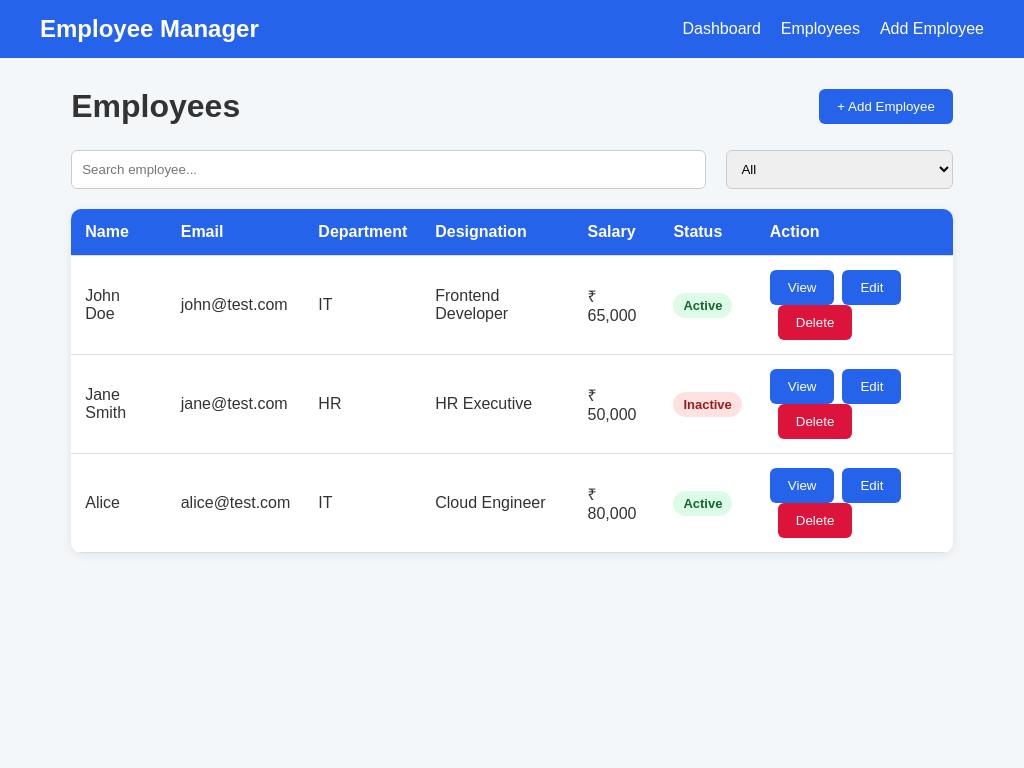
Employees page › searches employees by email
Expected: the text "John Doe" is shown, [71,256,167,354]
Type "alice@test.com" into the field with placeholder "Search employee..." at (389, 170), box [71,150,706,189]
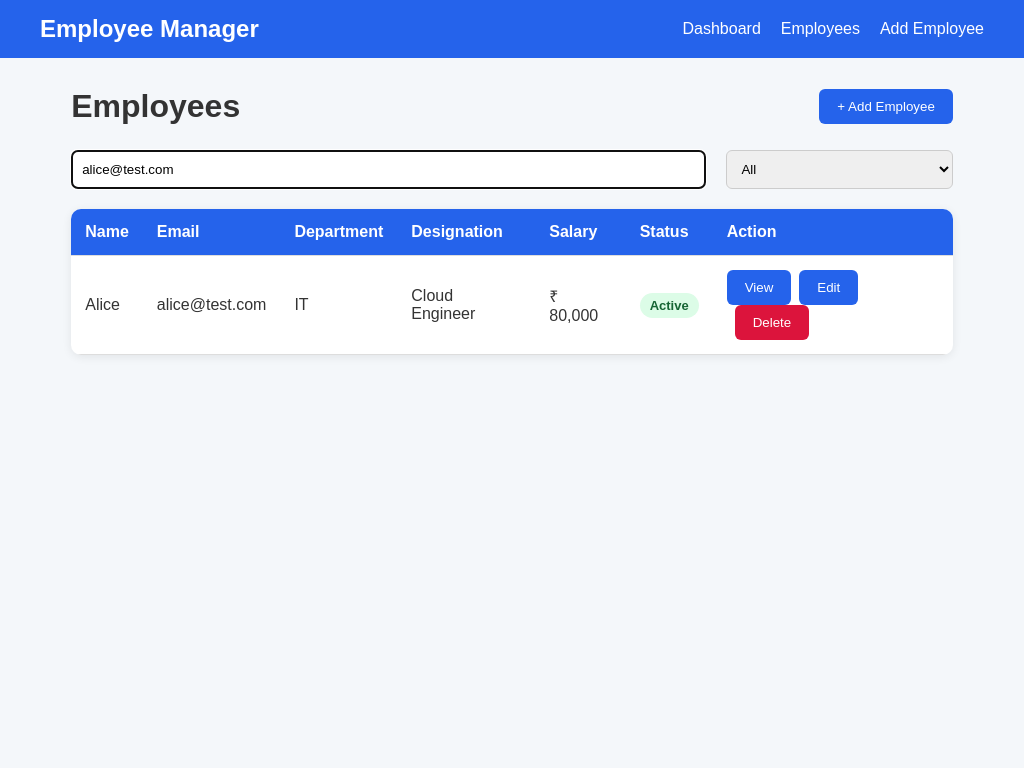
Expected: the text "Alice" is shown, [71,256,143,354]
Result: the text "John Doe" is gone
